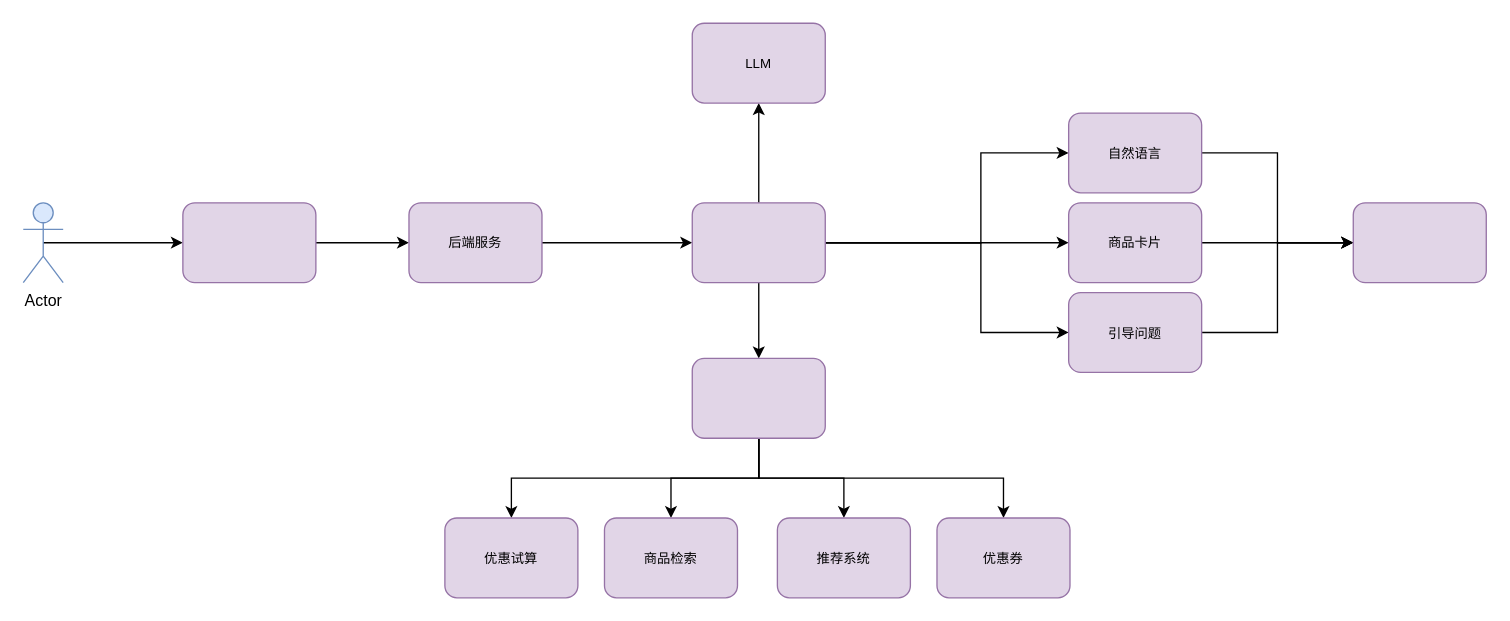
This 1510x621 diagram has some shape labels left out. Each missing label, with the box of its shape:
Agent回复: (1352, 201, 1486, 283)
Dify/Langchain: (691, 201, 825, 283)
小程序/电商平台入口: (182, 201, 316, 283)
工具: (691, 357, 825, 438)
